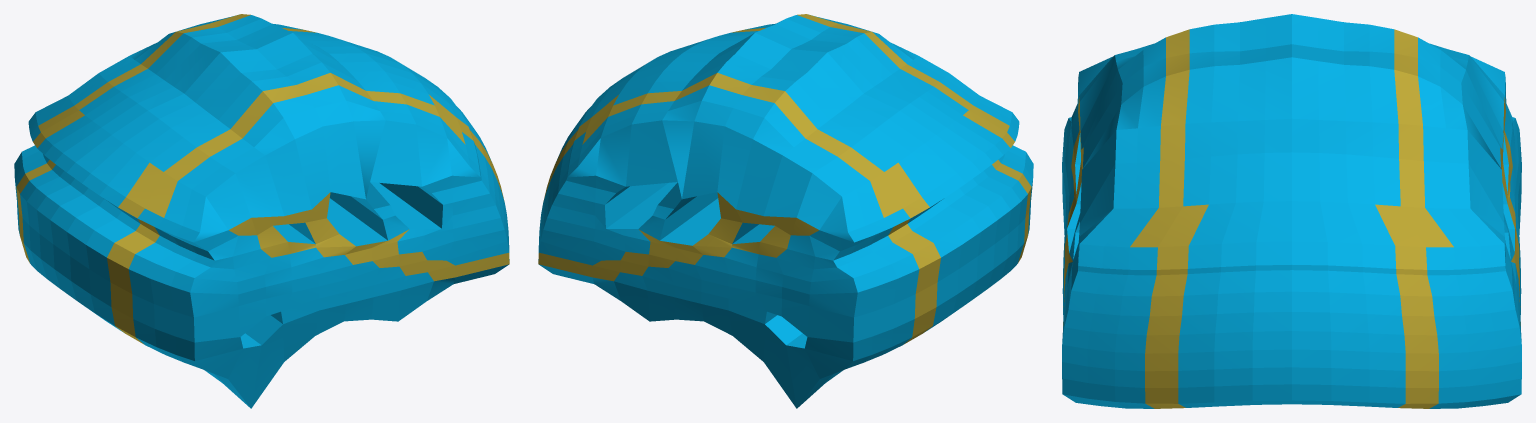
File: BikeHelmet.fbx
3 renders of one model, left to right at view 1: azimuth 30°, elevation 25°; view 2: azimuth 150°, elevation 25°; view 3: azimuth 270°, elevation 25°, orthographic. The views are drawn at different scales.
Parts seen in each view (by area): view 1: pCube235; view 2: pCube235; view 3: pCube235.
Part boxes in pixels (box(x1,y1,x2,y2)): pCube235: box(14, 14, 509, 408); pCube235: box(538, 14, 1033, 408); pCube235: box(1062, 14, 1521, 408).
Bounding box in the file's own units: 16.02 × 10.48 × 11.65.
